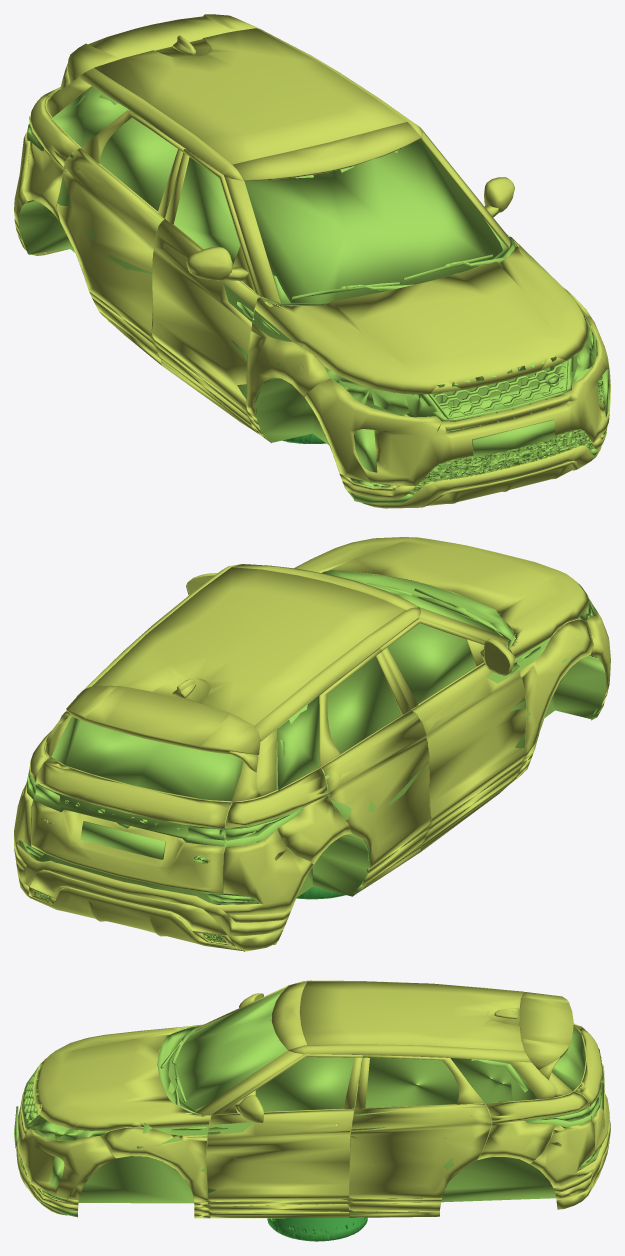
Rendered from range_rover_classic_rig.glb.
3 views of the same model, one above another, from view 1: azimuth 30°, elevation 25°; view 2: azimuth 150°, elevation 25°; view 3: azimuth 270°, elevation 25° (orthographic). The views are drawn at different scales.
Parts seen in each view (by area): view 1: Body_Mesh; view 2: Body_Mesh; view 3: Body_Mesh, Wheel_FR_Mesh, Wheel_RR_Mesh, Wheel_RL_Mesh, Wheel_FL_Mesh.
Boxes of the visible parts, box(x1,y1,x2,y2) form: Body_Mesh: box(14, 14, 610, 508); Body_Mesh: box(14, 537, 610, 951); Body_Mesh: box(14, 980, 610, 1218); Wheel_FR_Mesh: box(267, 1218, 367, 1241); Wheel_RR_Mesh: box(267, 1218, 366, 1240); Wheel_RL_Mesh: box(267, 1217, 367, 1241); Wheel_FL_Mesh: box(270, 1217, 366, 1240).
Bounding box in the file's own units: 2.32 × 1.95 × 4.95.
